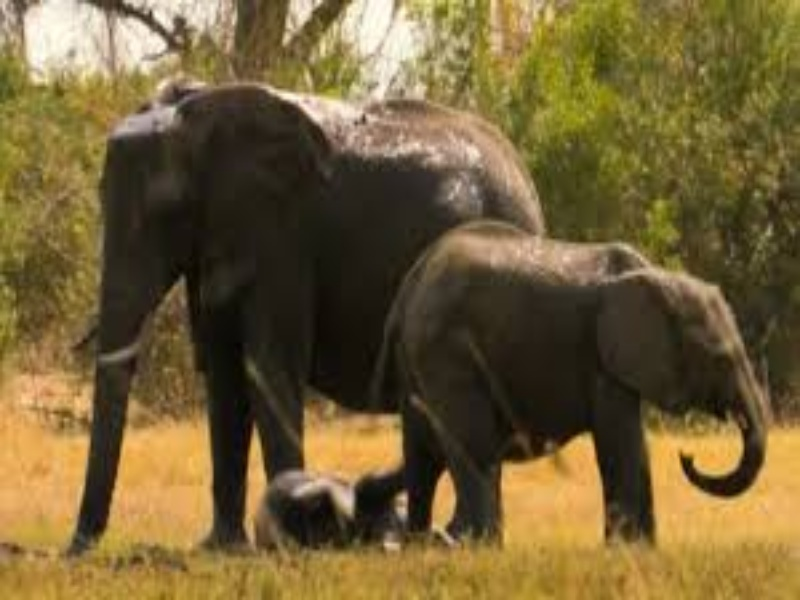elephant: (73, 56, 385, 527)
